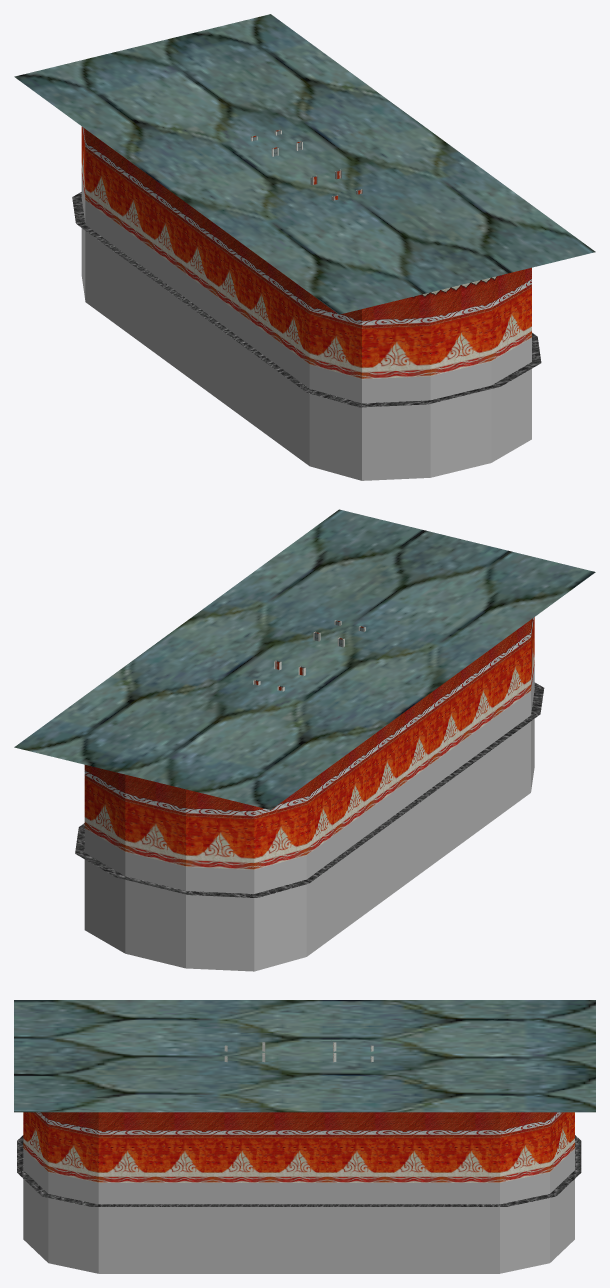
File: Road_rock.obj
3 renders of one model, top to bottom at view 1: azimuth 30°, elevation 25°; view 2: azimuth 150°, elevation 25°; view 3: azimuth 270°, elevation 25°, orthographic. The views are drawn at different scales.
Parts seen in each view (by area): view 1: Object_4, obj1, Object_9, Object_6, Object_3, Object_7, Object_8, Object_5, Object_2; view 2: obj1, Object_4, Object_6, Object_5, Object_9, Object_3, Object_7, Object_8, Object_2; view 3: Object_6, Object_9, Object_7, Object_8, obj1, Object_4, Object_3, Object_5, Object_2.
Boxes of the visible parts, x1,y1,x2,y2 form: Object_4: [202, 186, 453, 480]; obj1: [14, 48, 275, 383]; Object_9: [353, 178, 595, 477]; Object_6: [155, 14, 415, 147]; Object_3: [162, 156, 316, 399]; Object_7: [272, 120, 457, 185]; Object_8: [316, 151, 494, 212]; Object_5: [129, 42, 295, 153]; Object_2: [72, 192, 541, 407]; obj1: [156, 667, 418, 971]; Object_4: [345, 544, 595, 858]; Object_6: [14, 641, 275, 953]; Object_5: [125, 669, 300, 968]; Object_9: [238, 509, 480, 617]; Object_3: [306, 638, 458, 874]; Object_7: [160, 611, 343, 675]; Object_8: [201, 583, 379, 643]; Object_2: [75, 682, 544, 897]; Object_6: [299, 1058, 595, 1273]; Object_9: [14, 1050, 194, 1273]; Object_7: [232, 1044, 365, 1273]; Object_8: [165, 1047, 261, 1273]; obj1: [331, 1000, 595, 1050]; Object_4: [14, 1000, 259, 1050]; Object_3: [259, 1000, 331, 1050]; Object_5: [336, 1047, 595, 1061]; Object_2: [17, 1135, 581, 1206].
Size of the model in its own units: 2116 by 1560 by 4640.
